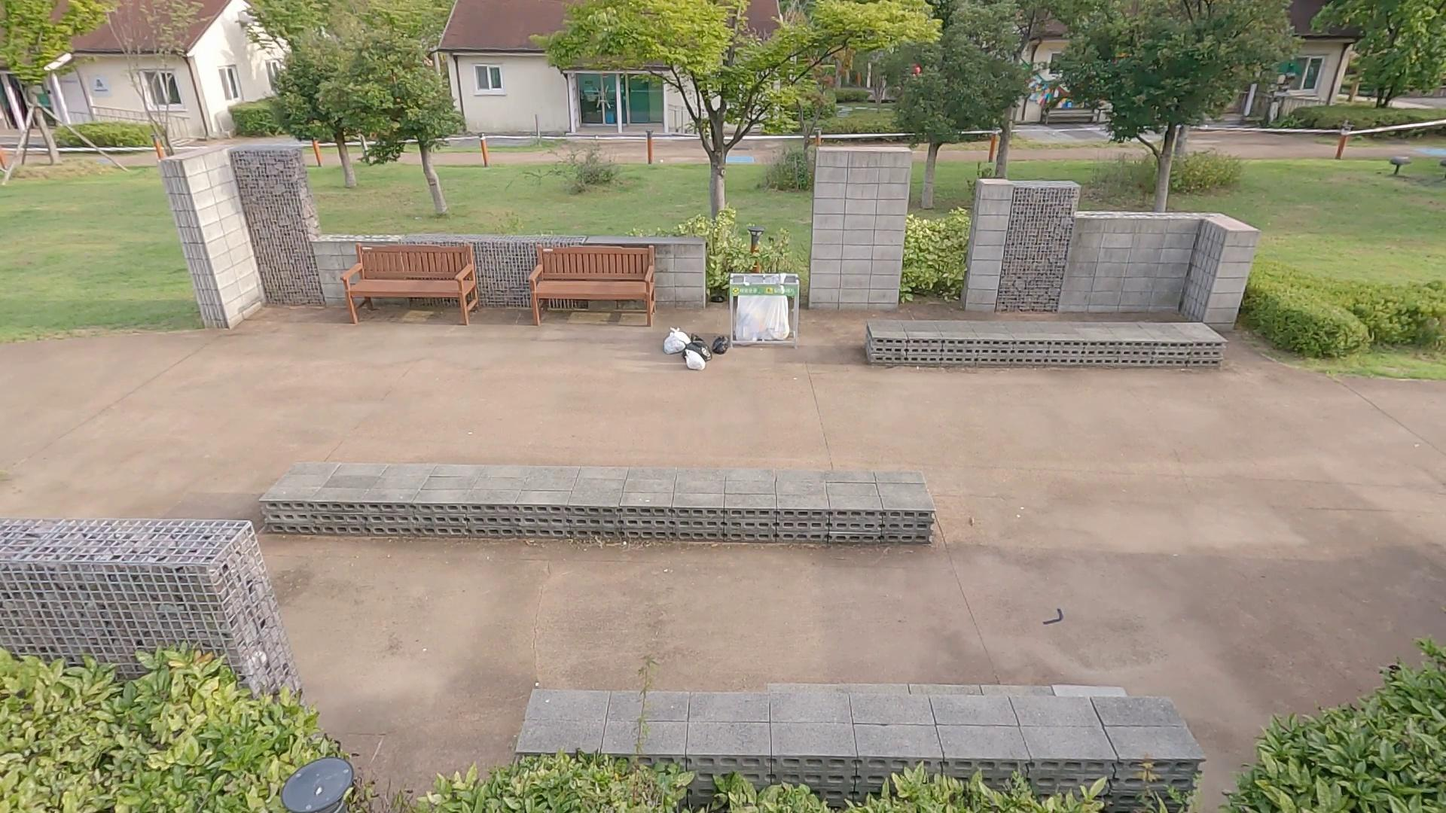trash: (680, 332, 713, 361), (683, 348, 708, 370), (662, 334, 687, 355), (668, 327, 691, 347), (712, 334, 729, 355)
